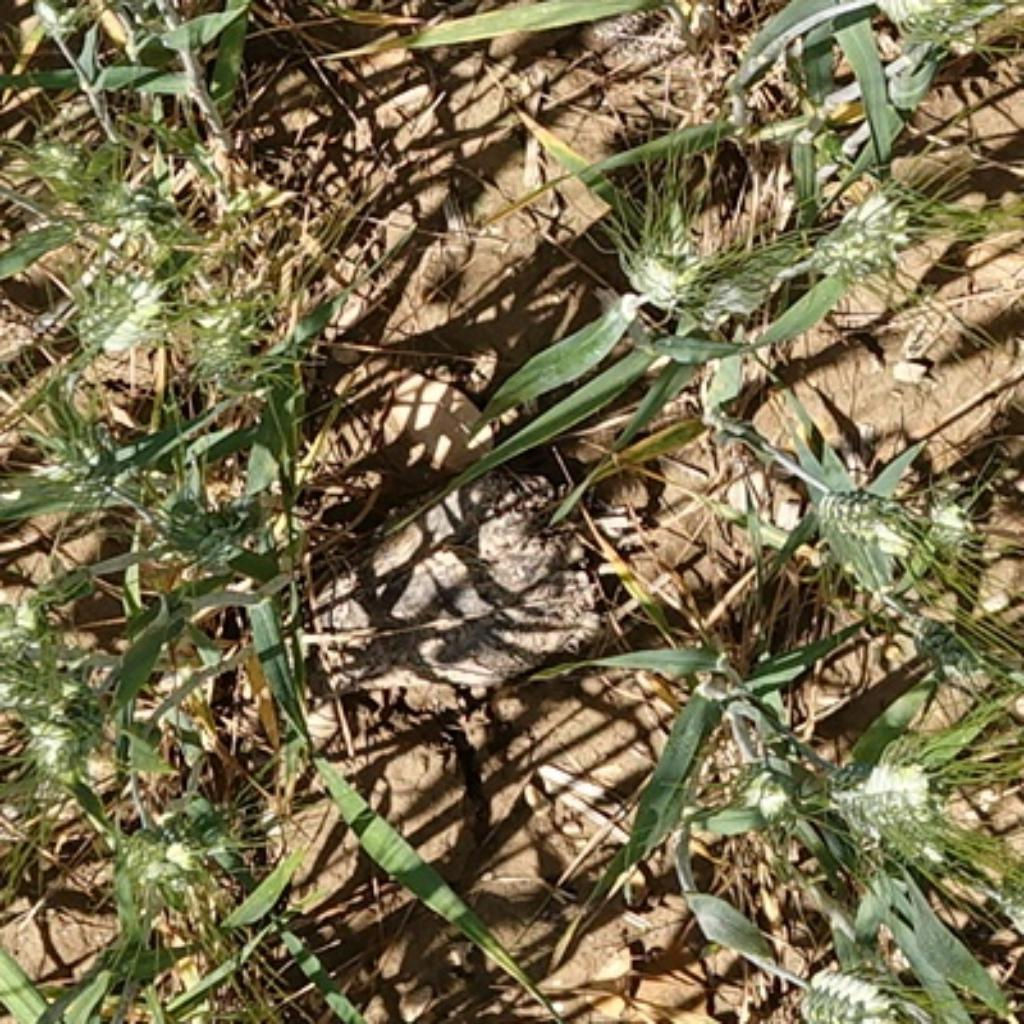0-0: (94, 783, 248, 936), (691, 222, 816, 343), (829, 742, 954, 855), (15, 401, 148, 504), (711, 724, 829, 832), (176, 289, 284, 399), (801, 174, 913, 279), (147, 487, 255, 589), (64, 250, 174, 350), (614, 199, 711, 307), (785, 949, 919, 1024), (2, 606, 87, 719), (2, 696, 94, 796), (76, 161, 184, 240), (820, 483, 927, 560), (12, 120, 110, 202), (898, 619, 988, 701), (859, 0, 1007, 40)
